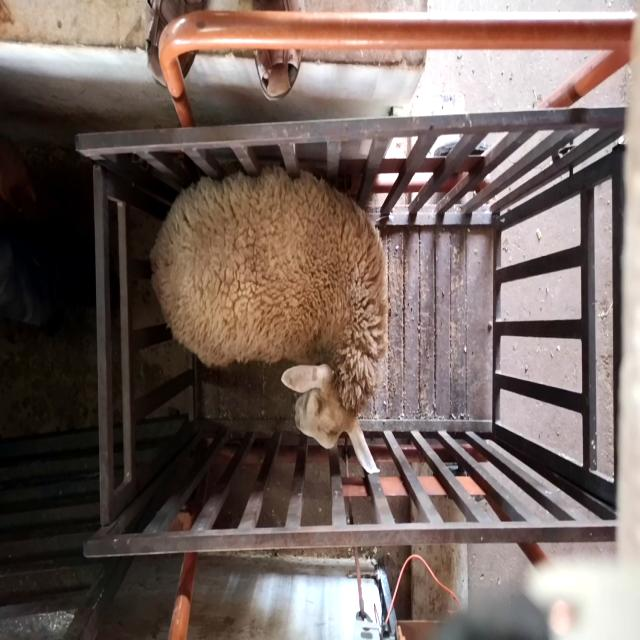sheep: (151, 168, 388, 475)
